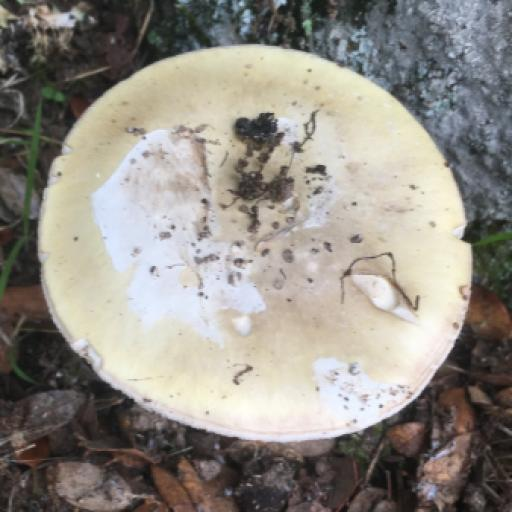mushroom: (40, 46, 471, 441)
